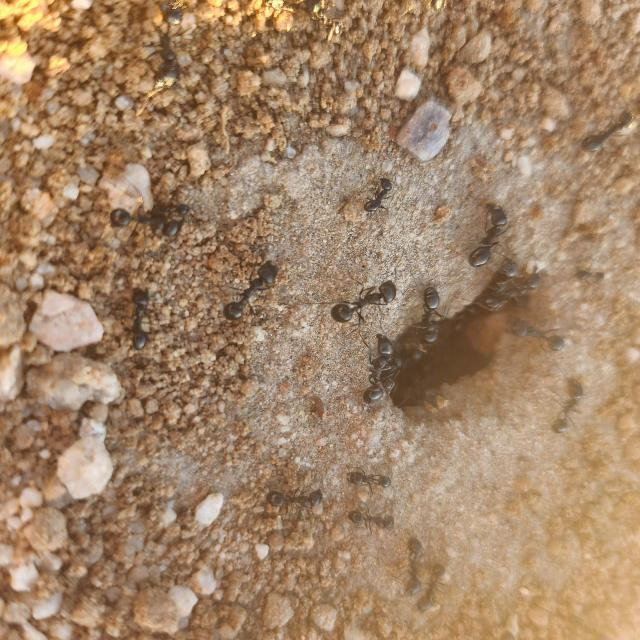Messor: (99, 196, 189, 252), (220, 262, 286, 321), (464, 184, 506, 270), (508, 310, 570, 362), (116, 286, 162, 350), (150, 26, 192, 94), (330, 283, 398, 325), (548, 368, 588, 439), (578, 108, 636, 156), (126, 190, 194, 224), (496, 266, 544, 310), (364, 338, 396, 400), (354, 176, 402, 216), (262, 482, 328, 511), (416, 558, 444, 614), (337, 507, 393, 533), (424, 286, 446, 350), (403, 538, 423, 596), (490, 255, 514, 295), (348, 470, 390, 492)
